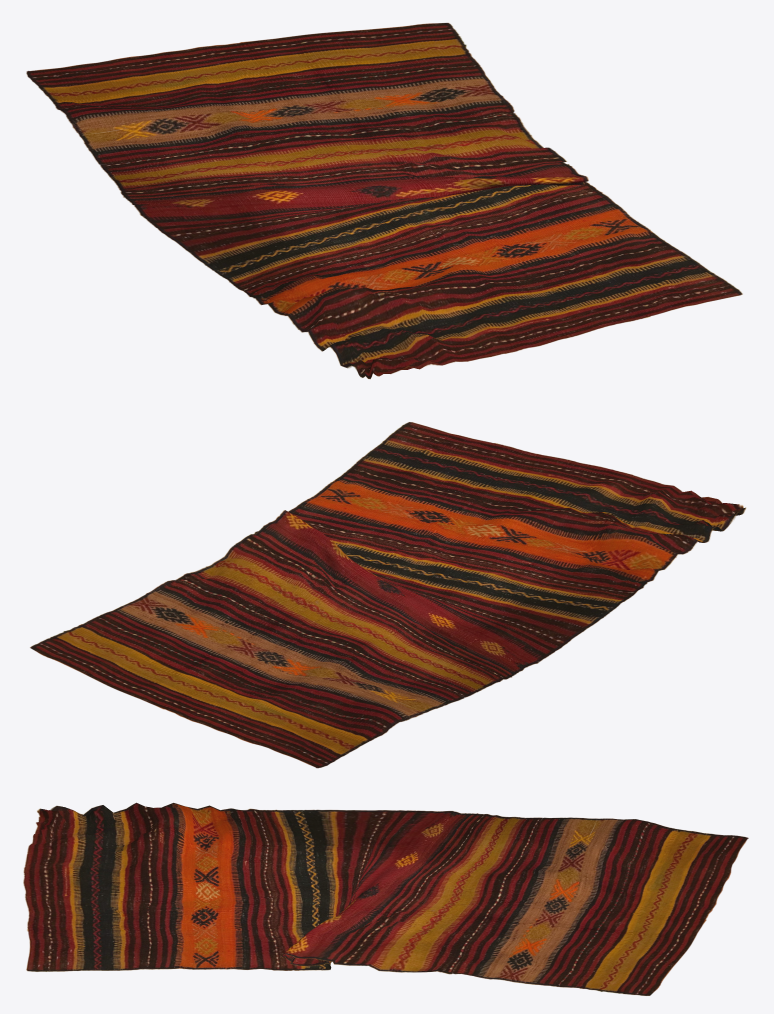
3 renders of one model, top to bottom at view 1: azimuth 30°, elevation 25°; view 2: azimuth 150°, elevation 25°; view 3: azimuth 270°, elevation 25°, orthographic. The views are drawn at different scales.
Visible parts, largest first — view 1: Rug_2; view 2: Rug_2; view 3: Rug_2.
Boxes of the visible parts, left/top/right/bottom form: Rug_2: left=26, top=22, right=742, bottom=378; Rug_2: left=30, top=422, right=746, bottom=768; Rug_2: left=23, top=802, right=748, bottom=995.
Bounding box in the file's own units: 1.14 × 0.065 × 1.86.
Materials: 1 (1 with a texture image).
